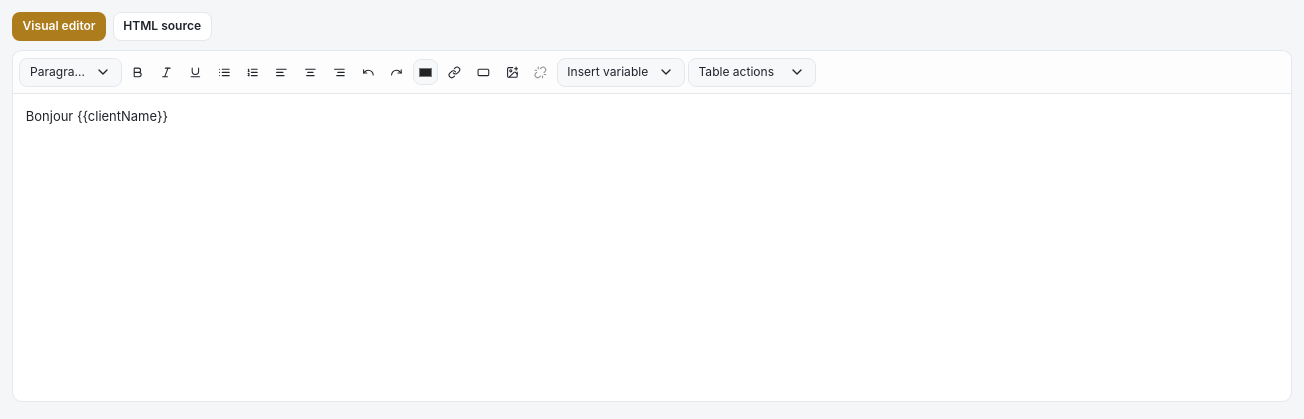
email editing modes › does not convert legacy rules merely by opening the editor
The image size is (1304, 419).
Expected: the field named "Email body" reads "Bonjour {{clientName}}", [26, 108, 168, 124]
Click the button "HTML source" at (162,26), box [113, 12, 212, 41]
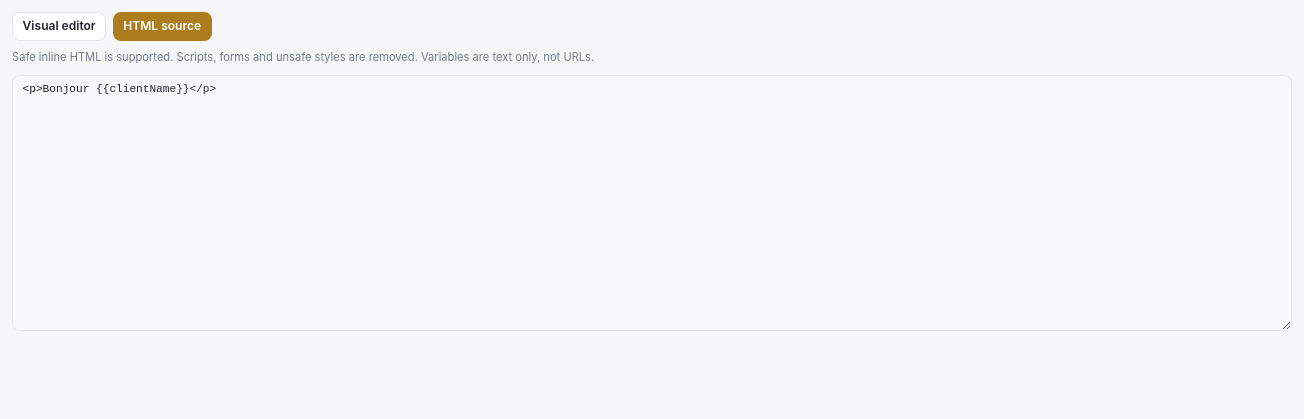
Now the text box named "HTML source" holds "<p>Bonjour {{clientName}}</p>", box [12, 75, 1292, 331]
